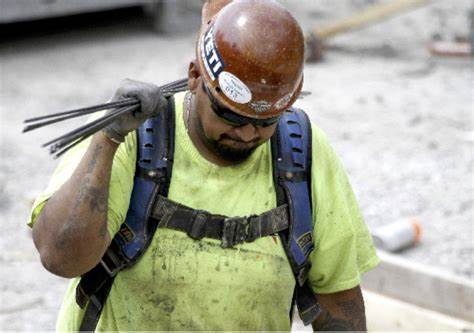safetyhat: (52, 1, 378, 333)
